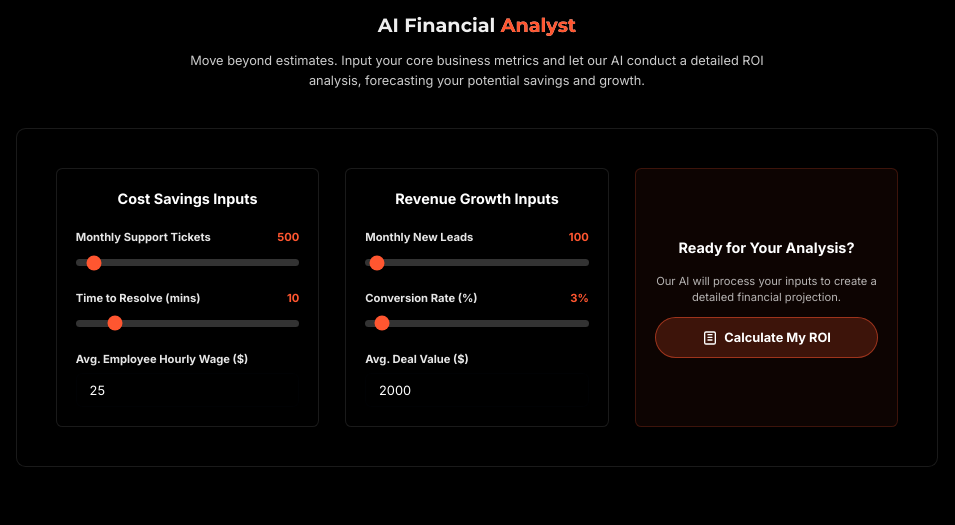
Test case: ROICalculatorSection Component › handles API errors gracefully
What coordinates should you click on to do the following:
click the button "Calculate My ROI"
I would click on:
 (766, 338)
Its box is [655,317,878,358].
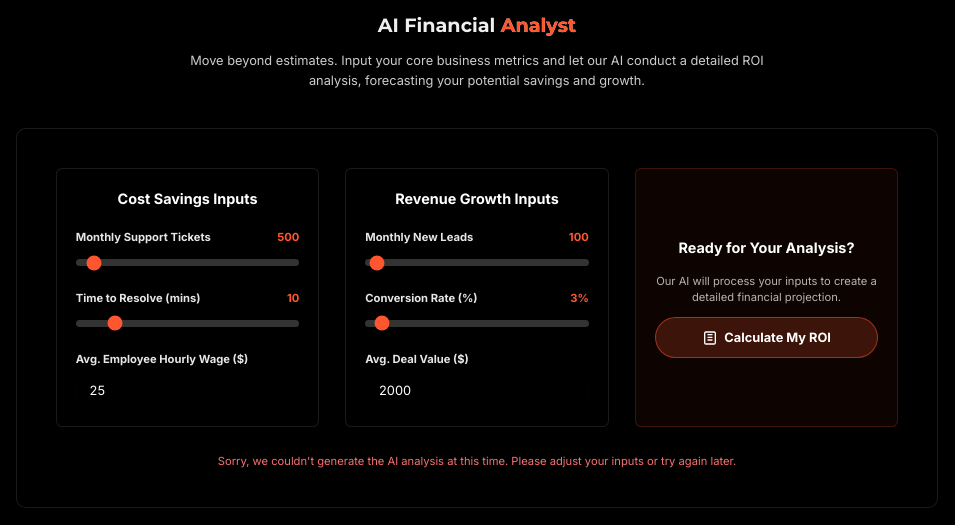
Result: the text "Sorry, we couldn't generate the AI analysis at this time" is shown at [218,454,736,468]
